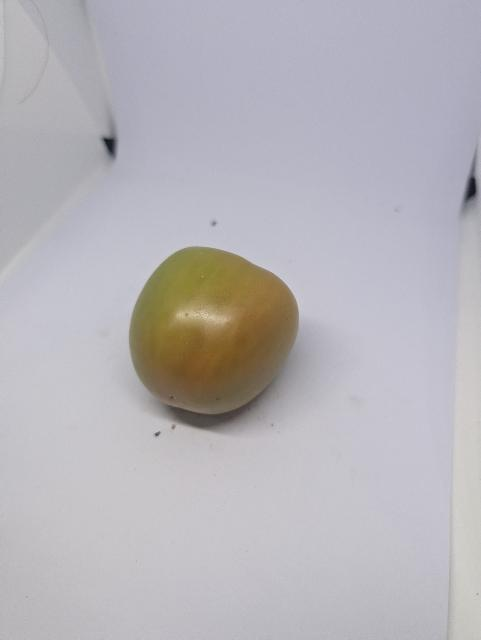breaker: (129, 247, 299, 414)
